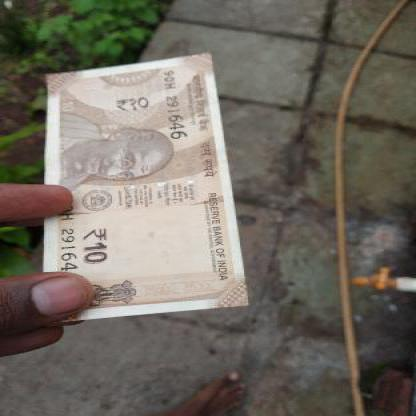New10Front: (46, 56, 256, 309)
